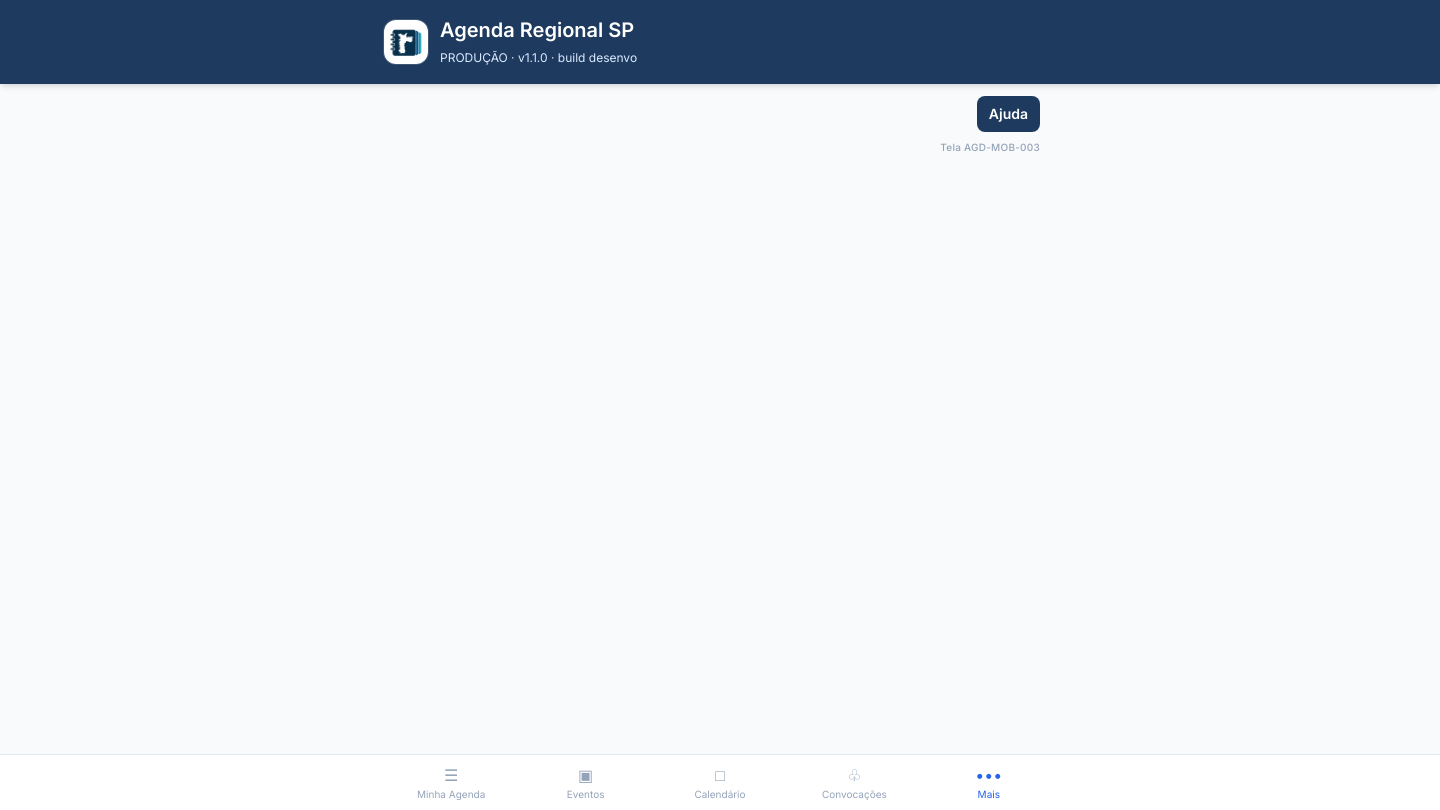
Central de Ajuda › toda aba avisos tem artigo, código oficial e botão de ajuda
Click the button "Ajuda". click: (1008, 114)
box: [977, 96, 1040, 132]
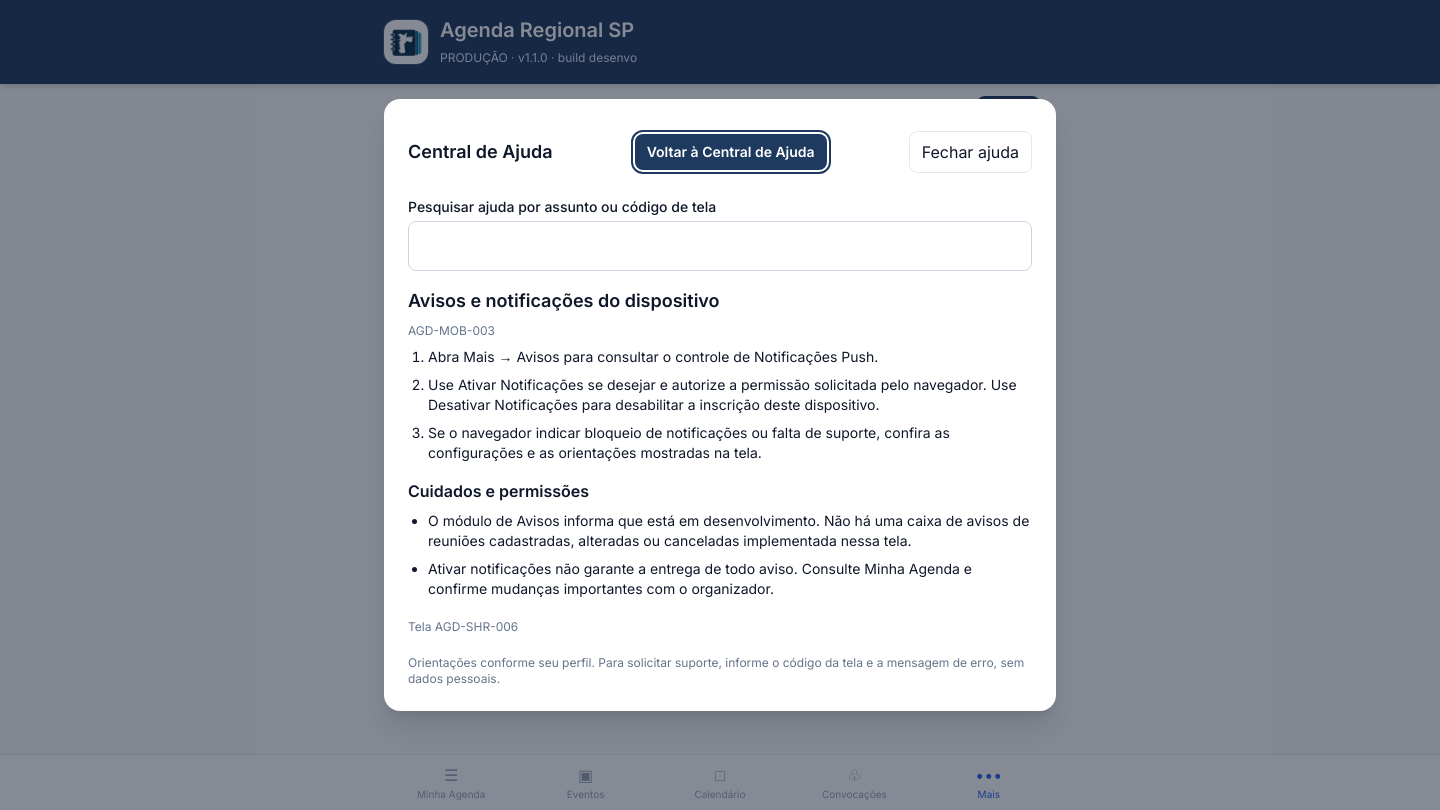
Expected: the heading "Avisos e notificações do dispositivo" is shown, [408, 290, 720, 311]
